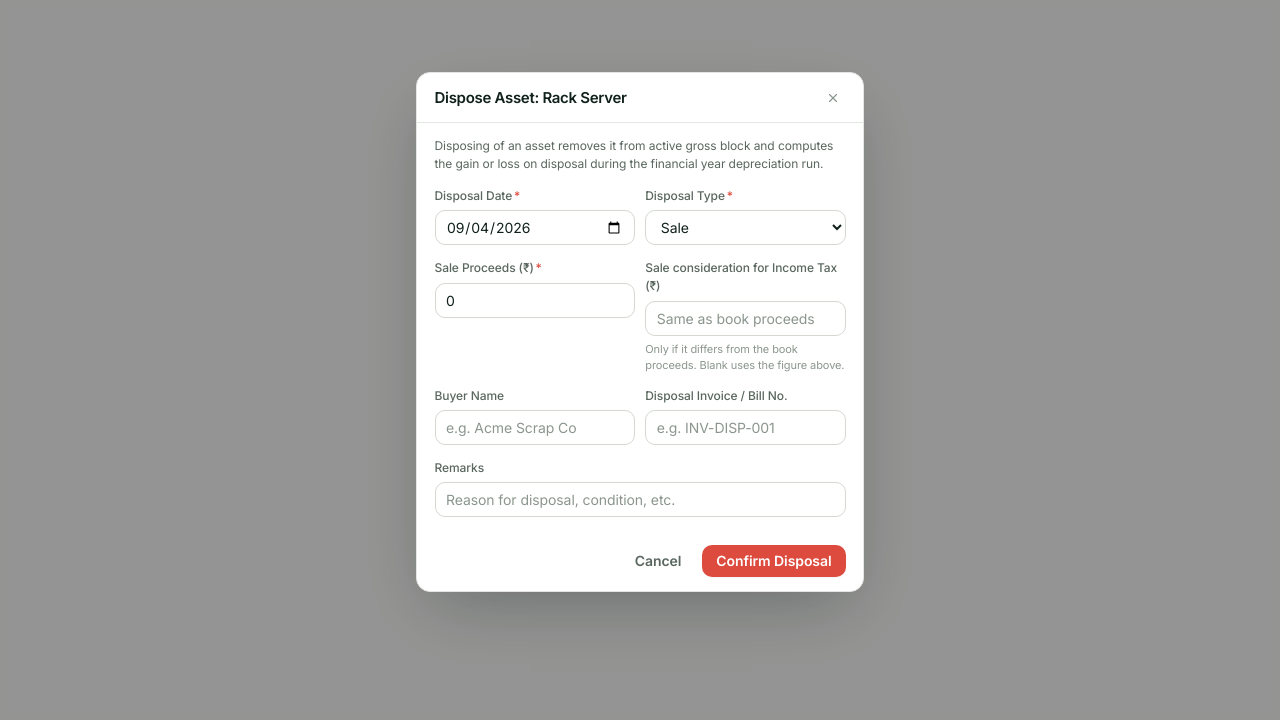
Scenario: AssetDisposalModal — server refusal handling › closes and refreshes when the asset was already disposed (409)
The width and height of the screenshot is (1280, 720).
Step 1. Click the button "Confirm Disposal" → (774, 561), box [702,545,846,577]
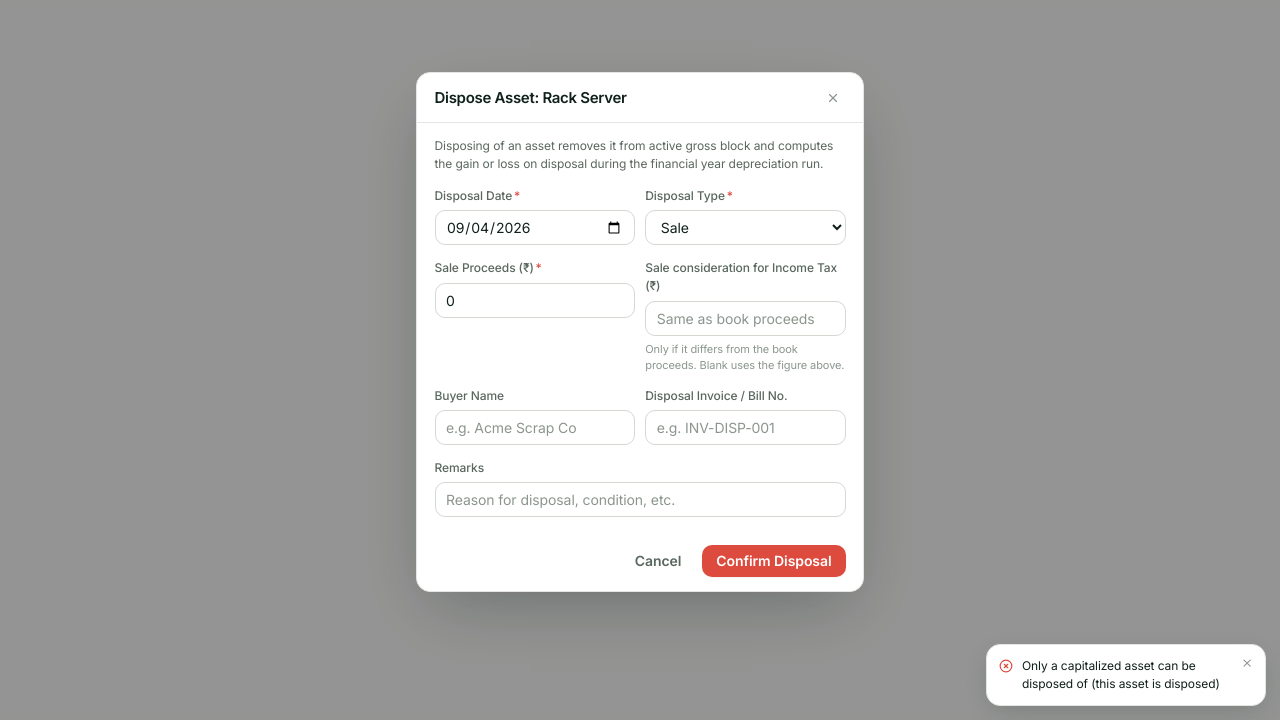
expect the text "Only a capitalized asset can be disposed of" is shown: met, box [1022,658,1220,691]
